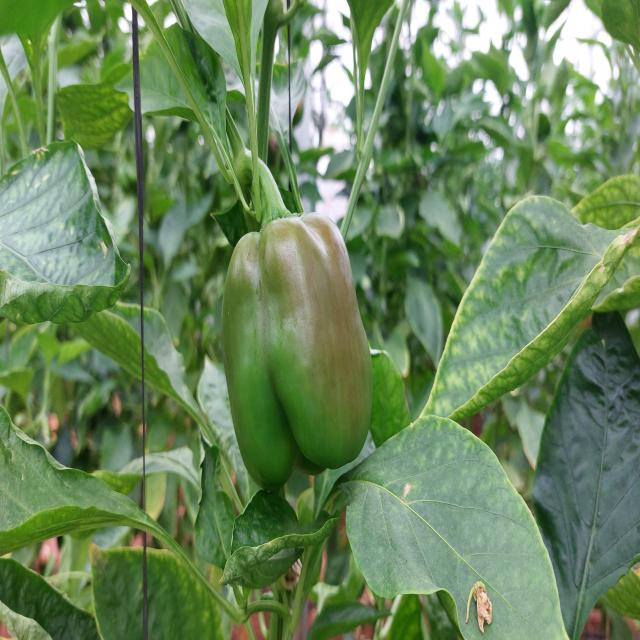BrownishRed--Can-be-Harvested: (215, 219, 388, 489)
